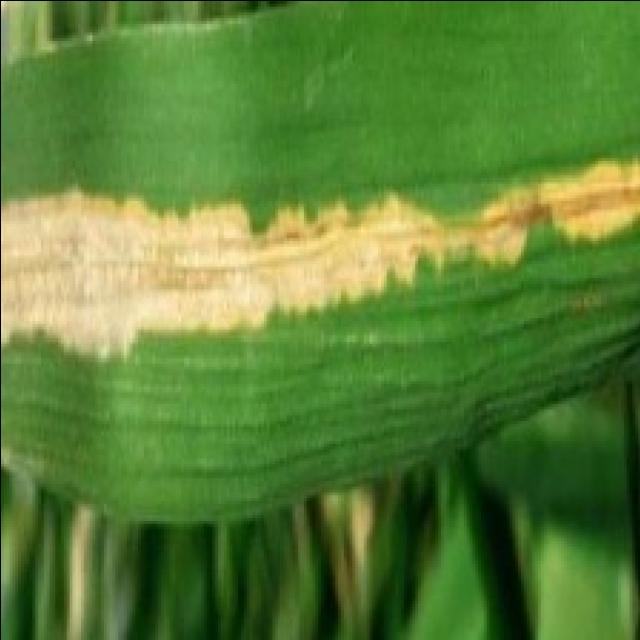Unhealthy: (0, 150, 640, 369)
